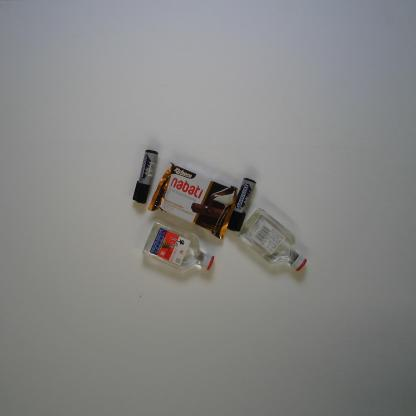Alcohol: (237, 207, 308, 273), (141, 219, 216, 274)
Dessert: (148, 161, 238, 242)
Stationery: (228, 177, 256, 233), (132, 150, 158, 206)
